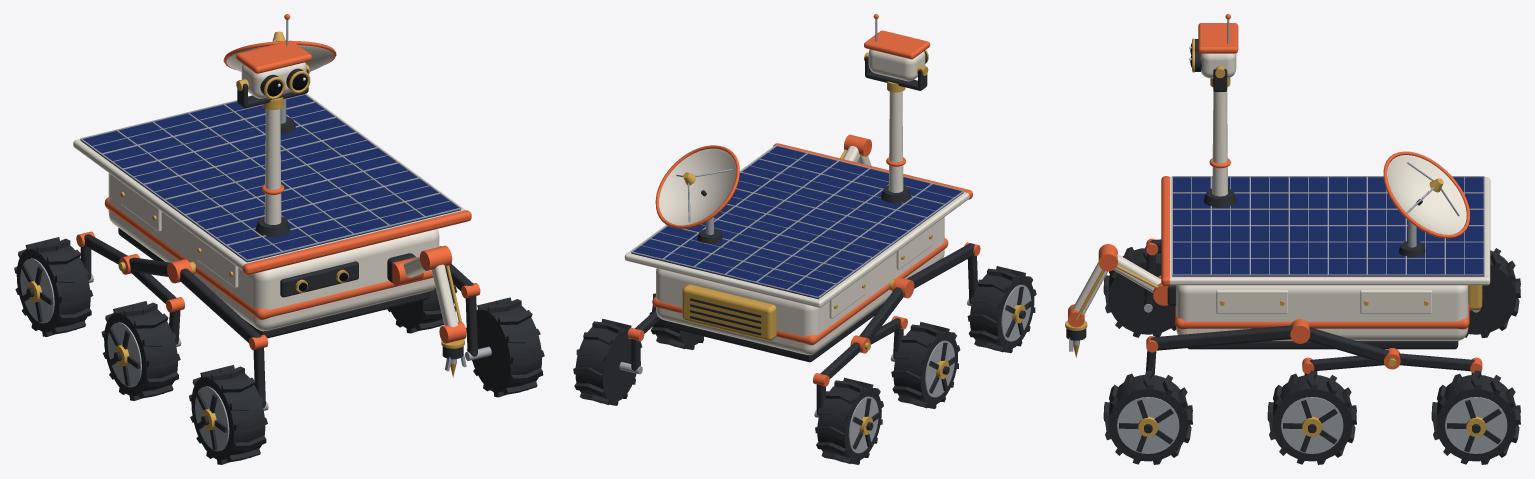
The model's file is rover.glb.
3 views of the same model, side by side, from view 1: azimuth 30°, elevation 25°; view 2: azimuth 150°, elevation 25°; view 3: azimuth 270°, elevation 25° (orthographic). The views are drawn at different scales.
Parts seen in each view (by area): view 1: Solar panel, Wheels, Chassis, Mast camera, Robotic arm, Antenna dish; view 2: Solar panel, Wheels, Chassis, Antenna dish, Mast camera, Robotic arm; view 3: Wheels, Solar panel, Chassis, Antenna dish, Mast camera, Robotic arm.
Boxes of the visible parts, x1,y1,x2,y2 form: Solar panel: (73, 93, 471, 274); Wheels: (14, 231, 544, 464); Chassis: (104, 173, 439, 338); Mast camera: (236, 14, 311, 236); Robotic arm: (387, 245, 466, 377); Antenna dish: (223, 31, 336, 133); Solar panel: (624, 143, 972, 307); Wheels: (573, 242, 1036, 464); Chassis: (652, 217, 948, 362); Antenna dish: (655, 145, 739, 243); Mast camera: (864, 14, 930, 203); Robotic arm: (840, 134, 871, 165); Wheels: (1103, 238, 1520, 464); Solar panel: (1161, 176, 1490, 286); Chassis: (1175, 285, 1483, 349); Antenna dish: (1383, 151, 1469, 257); Mast camera: (1189, 14, 1238, 207); Robotic arm: (1065, 244, 1176, 357).
Bounding box in the file's own units: 1.77 × 2.01 × 2.28.
